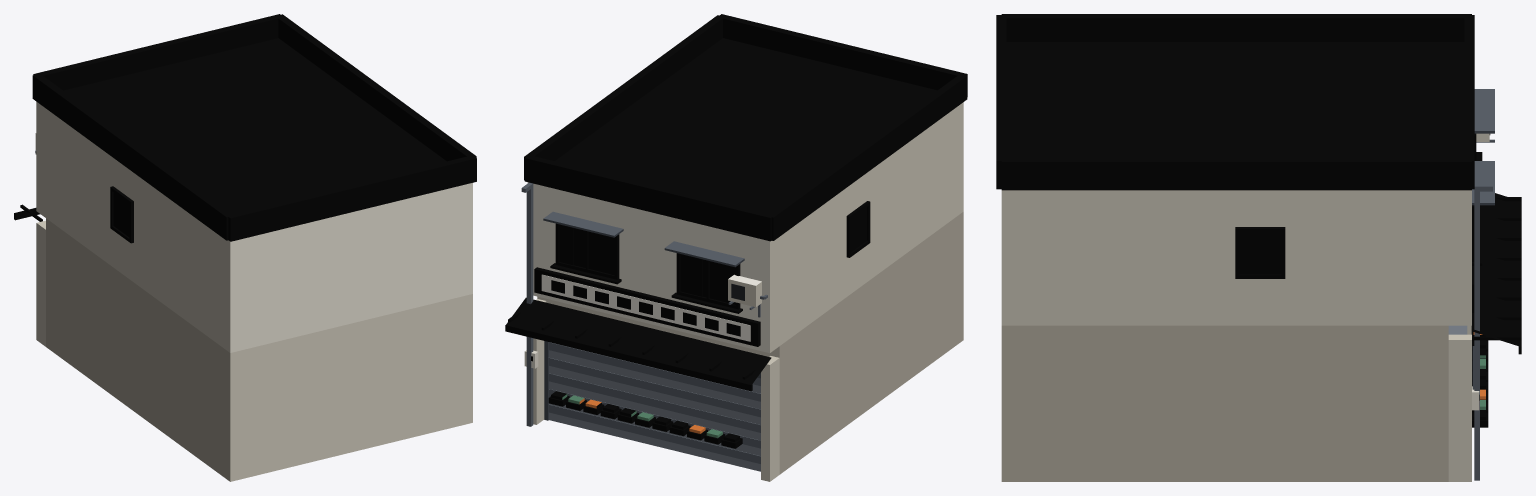
File: Shop_C2.fbx
The picture shows the model from 3 angles, left to right: view 1: azimuth 30°, elevation 25°; view 2: azimuth 150°, elevation 25°; view 3: azimuth 270°, elevation 25°; orthographic projection. The views are drawn at different scales.
Parts seen in each view (by area): view 1: RoofTop.008, BodyLow.006, BodyUp.006, Pilasters.005, Glass.019, WinFrame.019; view 2: RoofTop.008, BodyUp.006, BodyLow.006, ShutterSlats.001, Geya.004, Pilasters.005, WinFrame.019, Glass.019, SignBand.006, SignFace.005, Hoods.016, Pipes.019 (+6 smaller); view 3: RoofTop.008, BodyLow.006, BodyUp.006, Geya.004, Pilasters.005, Glass.019, Pipes.019, Hoods.016, WinFrame.019.
Part boxes in pixels (x1,y1,x2,y2): RoofTop.008: (32,14,476,241); BodyLow.006: (46,218,472,481); BodyUp.006: (36,102,472,352); Pilasters.005: (36,220,45,346); Glass.019: (113,193,129,236); WinFrame.019: (110,186,133,243); RoofTop.008: (524,14,967,241); BodyUp.006: (527,102,963,353); BodyLow.006: (537,212,963,474); ShutterSlats.001: (548,342,760,471); Geya.004: (505,297,771,391); Pilasters.005: (533,299,779,481); WinFrame.019: (550,201,870,313); Glass.019: (531,207,866,361); SignBand.006: (534,267,760,346); SignFace.005: (541,274,750,341); Hoods.016: (543,211,744,267); Pipes.019: (521,182,767,426); RoofTop.008: (996,14,1474,190); BodyLow.006: (1001,325,1448,481); BodyUp.006: (1001,190,1471,325); Geya.004: (1472,193,1521,354); Pilasters.005: (1448,325,1471,481); Glass.019: (1239,232,1479,400); Pipes.019: (1472,184,1492,480); Hoods.016: (1472,89,1494,205); WinFrame.019: (1235,133,1482,278).
Bounding box in the file's own units: 6.7 × 6.8 × 10.05.
